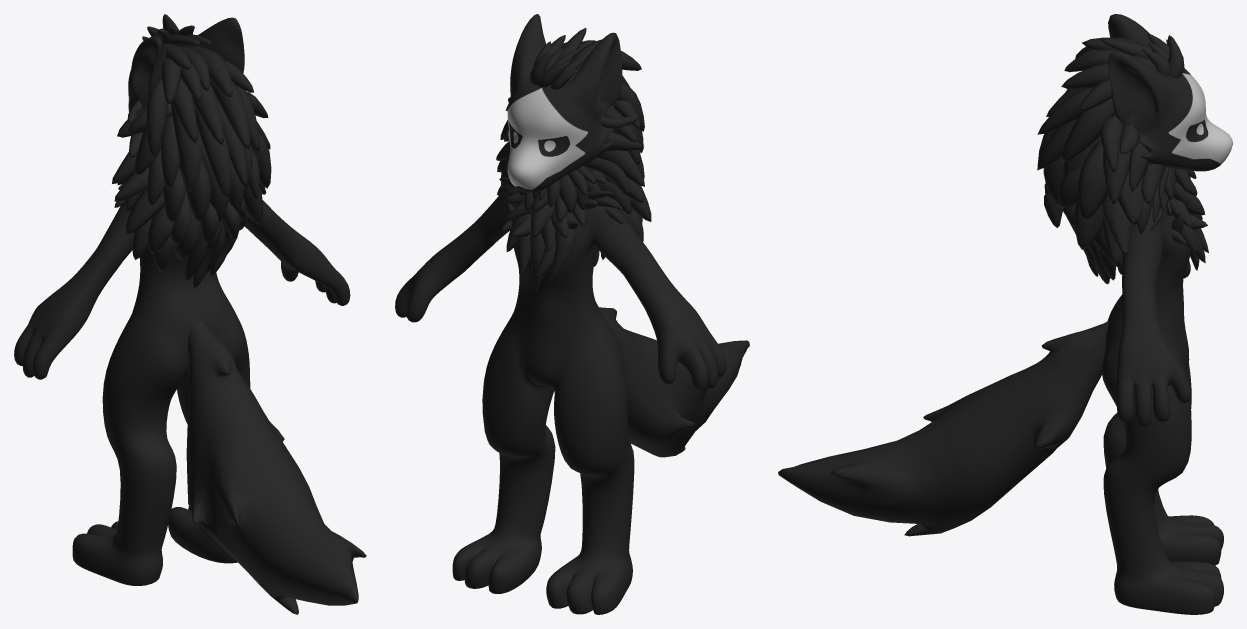
File: Unity2Skfb.fbx
The picture shows the model from 3 angles, left to right: view 1: azimuth 30°, elevation 25°; view 2: azimuth 150°, elevation 25°; view 3: azimuth 270°, elevation 25°; orthographic projection.
Parts seen in each view (by area): view 1: Body, Fur, Fur.001; view 2: Body, Fur, Fur.001; view 3: Body, Fur.001, Fur.
Boxes of the visible parts, <box> form: Body: <box>14,17,350,585</box>; Fur: <box>112,14,271,288</box>; Fur.001: <box>186,321,366,614</box>; Body: <box>395,14,726,614</box>; Fur: <box>496,28,651,290</box>; Fur.001: <box>599,307,749,457</box>; Body: <box>1102,14,1232,614</box>; Fur.001: <box>778,321,1108,536</box>; Fur: <box>1037,33,1208,284</box>.
Size of the model in its own units: 1.48 by 2.45 by 1.85.
1 material, 1 textured.
